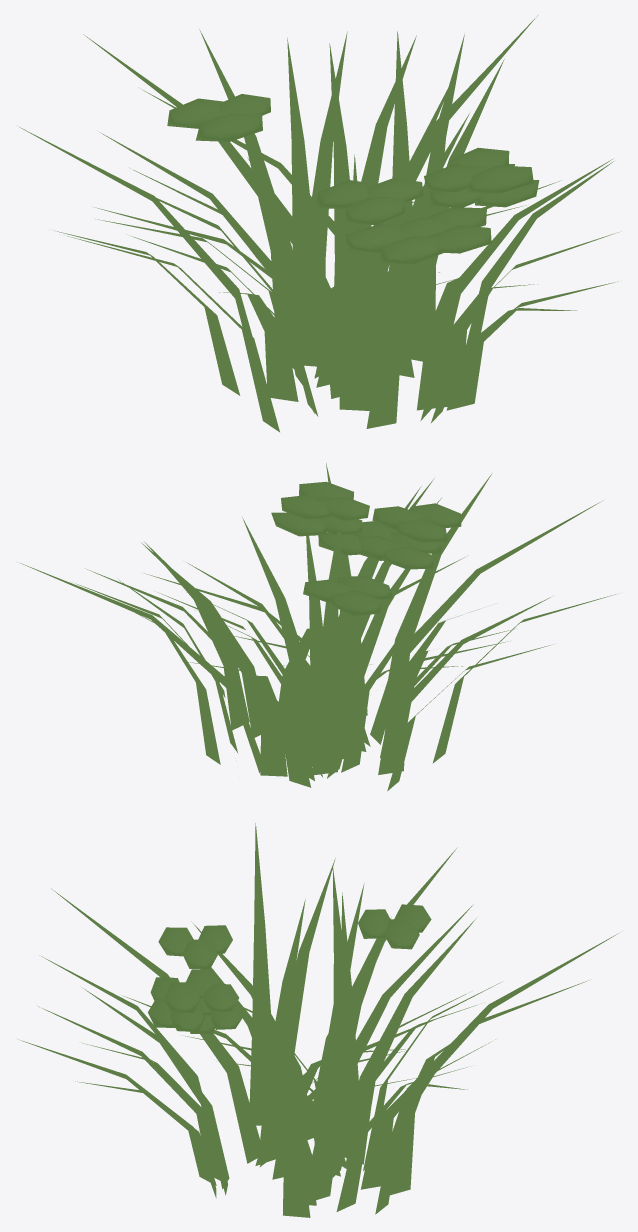
File: Blender_DouglasIris_1.glb
The picture shows the model from 3 angles, top to bottom: view 1: azimuth 30°, elevation 25°; view 2: azimuth 150°, elevation 25°; view 3: azimuth 270°, elevation 25°; orthographic projection. The views are drawn at different scales.
Visible parts, largest first — view 1: Blender_DouglasIris_1; view 2: Blender_DouglasIris_1; view 3: Blender_DouglasIris_1.
Boxes of the visible parts, <box> form: Blender_DouglasIris_1: <box>18,15,618,432</box>; Blender_DouglasIris_1: <box>20,463,616,790</box>; Blender_DouglasIris_1: <box>18,823,618,1217</box>.
Size of the model in its own units: 0.5962 by 0.2429 by 0.6053.
